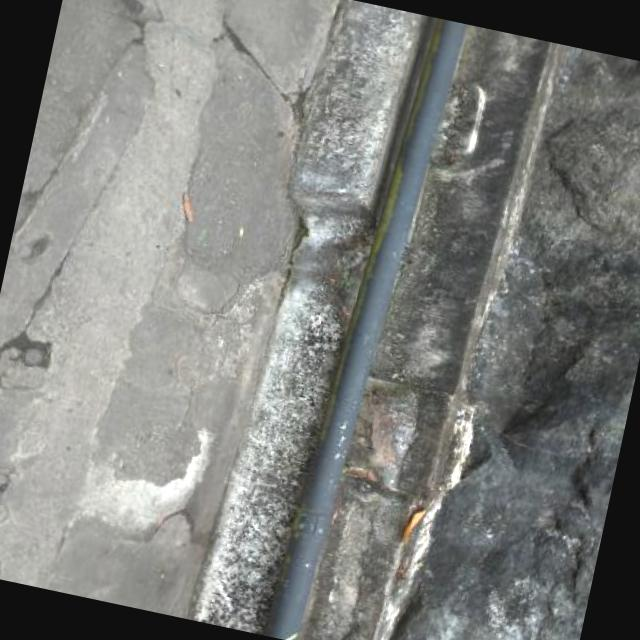gas: (264, 17, 465, 640)
